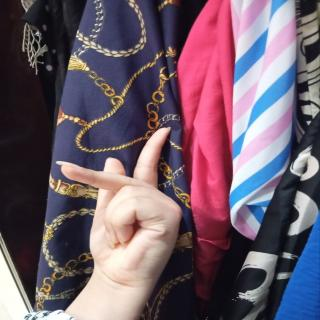DHAA: (52, 124, 190, 290)
